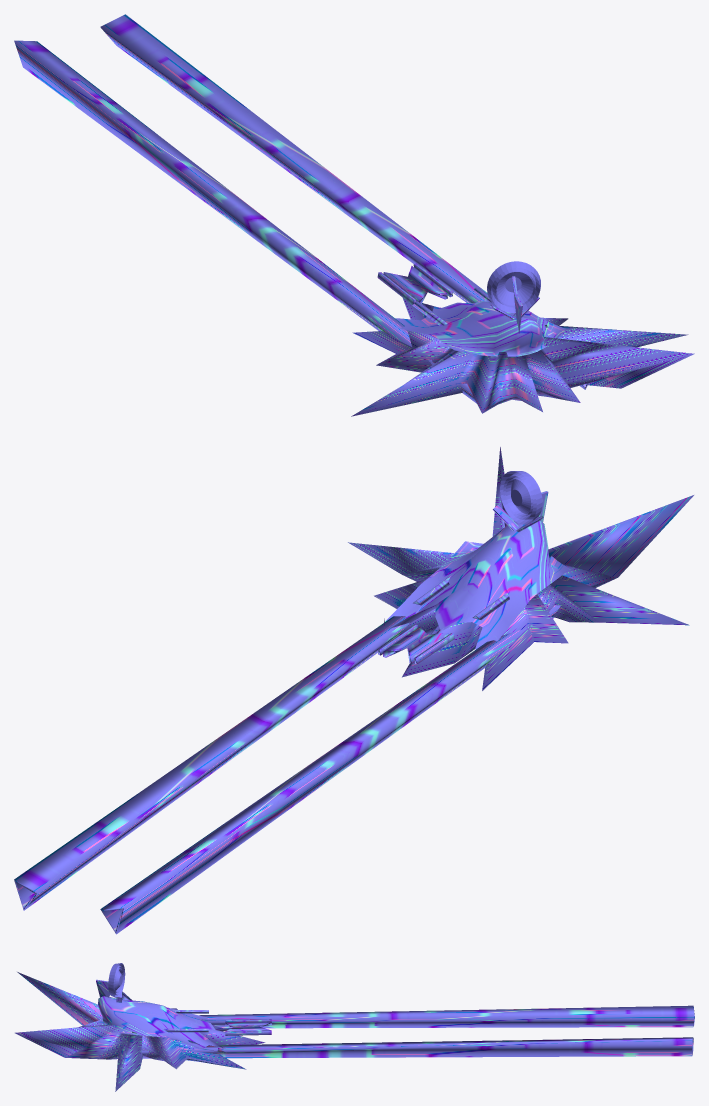
The model's file is gunship12.obj.
3 views of the same model, one above another, from view 1: azimuth 30°, elevation 25°; view 2: azimuth 150°, elevation 25°; view 3: azimuth 270°, elevation 25° (orthographic). The views are drawn at different scales.
Visible parts, largest first — view 1: Ship_Body, Gun_2, Gun_1, Driving_Seat, radar; view 2: Ship_Body, Gun_2, Gun_1, Driving_Seat, radar; view 3: Gun_2, Gun_1, Ship_Body, Driving_Seat, radar, Gun_Stripes_2, Gun_Stripe_4.
Part boxes in pixels (x1,y1,x2,y2): Ship_Body: [351, 298, 694, 416]; Gun_2: [14, 40, 476, 403]; Gun_1: [100, 14, 588, 389]; Driving_Seat: [395, 298, 565, 356]; radar: [487, 261, 540, 333]; Ship_Body: [348, 447, 693, 690]; Gun_2: [100, 605, 560, 934]; Gun_1: [14, 616, 409, 910]; Driving_Seat: [383, 520, 569, 649]; radar: [500, 471, 548, 524]; Gun_2: [199, 1005, 694, 1028]; Gun_1: [141, 1037, 693, 1058]; Ship_Body: [15, 972, 265, 1091]; Driving_Seat: [98, 996, 228, 1053]; radar: [96, 963, 125, 997]; Gun_Stripes_2: [225, 1021, 271, 1026]; Gun_Stripe_4: [225, 1030, 271, 1035].
Size of the model in its own units: 6.99 by 2.57 by 18.85.
